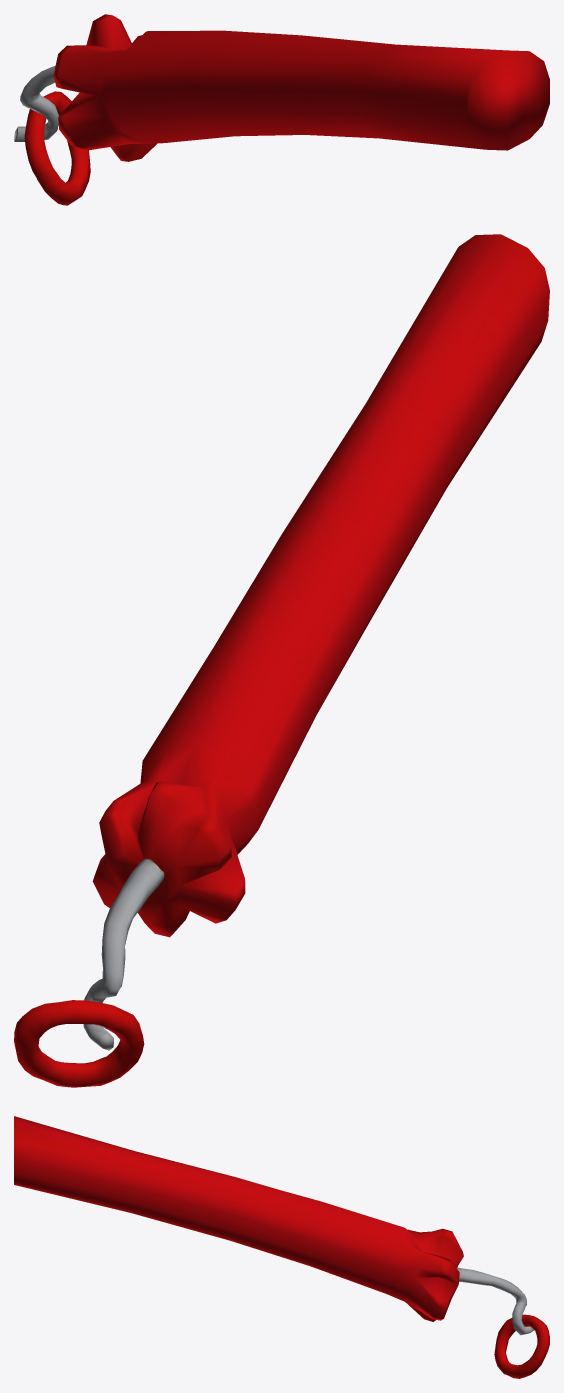
File: charm_dinamite.glb
The picture shows the model from 3 angles, top to bottom: view 1: azimuth 30°, elevation 25°; view 2: azimuth 150°, elevation 25°; view 3: azimuth 270°, elevation 25°; orthographic projection. The views are drawn at different scales.
Parts seen in each view (by area): view 1: tripo_node_7e2aa2ff-210b-45ba-8368-1c69e5985f4e; view 2: tripo_node_7e2aa2ff-210b-45ba-8368-1c69e5985f4e; view 3: tripo_node_7e2aa2ff-210b-45ba-8368-1c69e5985f4e.
Boxes of the visible parts, <box> form: tripo_node_7e2aa2ff-210b-45ba-8368-1c69e5985f4e: <box>14,14,549,205</box>; tripo_node_7e2aa2ff-210b-45ba-8368-1c69e5985f4e: <box>14,234,549,1087</box>; tripo_node_7e2aa2ff-210b-45ba-8368-1c69e5985f4e: <box>14,1116,549,1378</box>.
Bounding box in the file's own units: 0.209 × 0.5527 × 0.998.
Materials: 1 (1 with a texture image).
